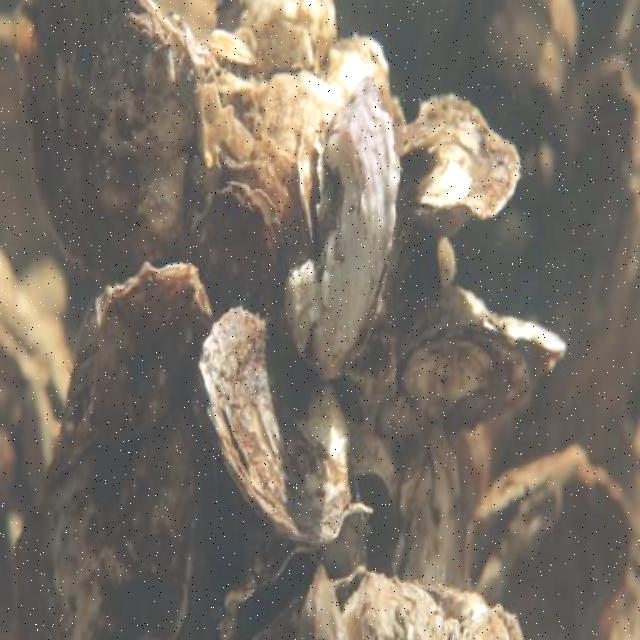Oyster-Closed: (22, 262, 214, 631), (17, 0, 200, 279), (201, 307, 357, 545), (285, 78, 404, 374), (393, 286, 570, 442), (401, 94, 525, 231), (312, 569, 528, 640), (192, 164, 290, 312), (240, 0, 340, 77)
Oyster-Open: (466, 448, 640, 640), (221, 551, 319, 640), (298, 113, 329, 247)
